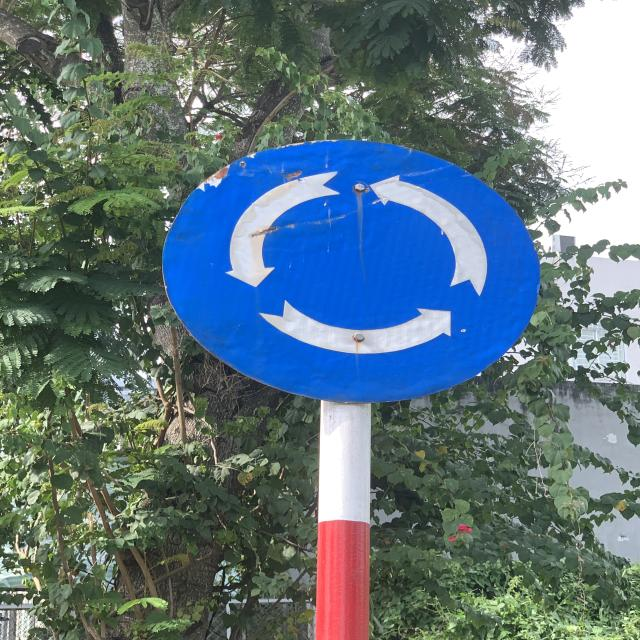Xe_Bus: (161, 136, 546, 404)
